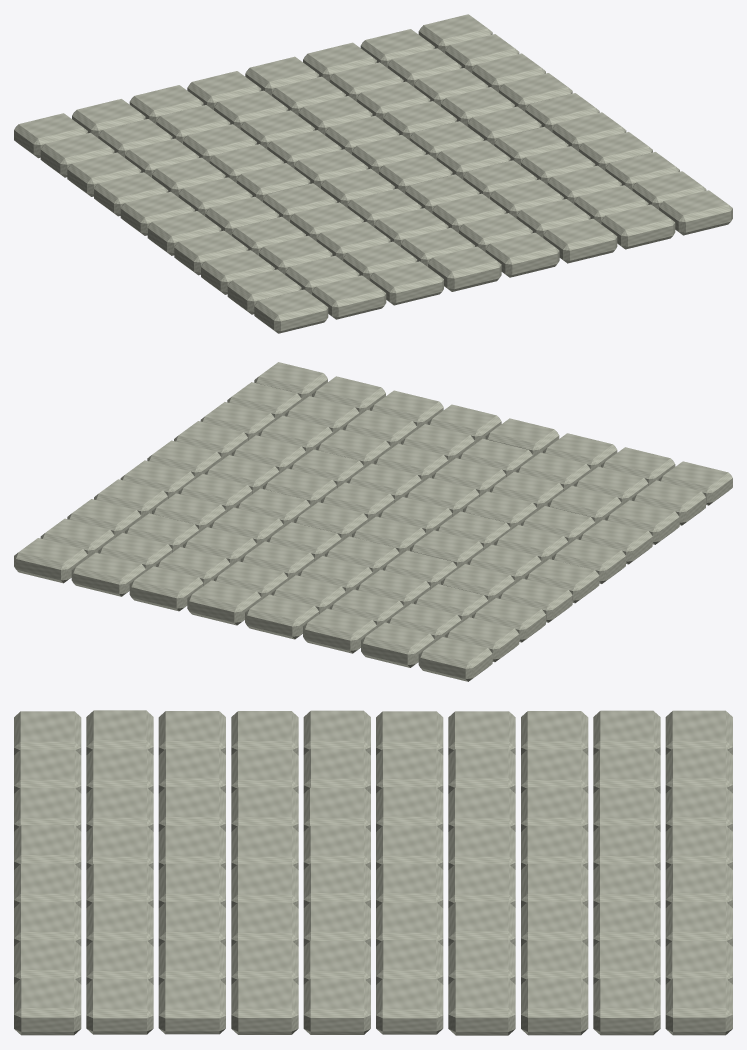
Rendered from cobblestone_paving.glb.
3 views of the same model, one above another, from view 1: azimuth 30°, elevation 25°; view 2: azimuth 150°, elevation 25°; view 3: azimuth 270°, elevation 25° (orthographic). The views are drawn at different scales.
Visible parts, largest first — view 1: cobblestone_paving_Structure; view 2: cobblestone_paving_Structure; view 3: cobblestone_paving_Structure.
Boxes of the visible parts, x1,y1,x2,y2 form: cobblestone_paving_Structure: (14, 14, 732, 333); cobblestone_paving_Structure: (14, 362, 732, 681); cobblestone_paving_Structure: (14, 710, 732, 1035).
Size of the model in its own units: 1.99 by 0.0847 by 1.99.
1 material, 1 textured.
